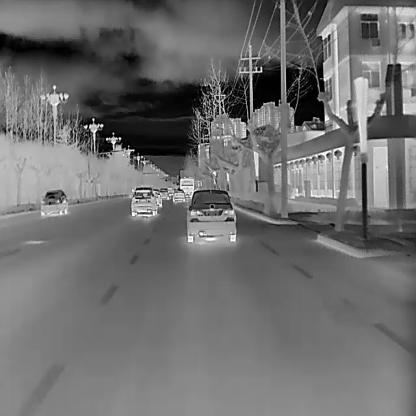bus: (179, 177, 194, 198)
car: (186, 189, 236, 242), (130, 187, 156, 216), (40, 188, 68, 214), (151, 189, 162, 207), (172, 190, 185, 204), (158, 188, 169, 200)
